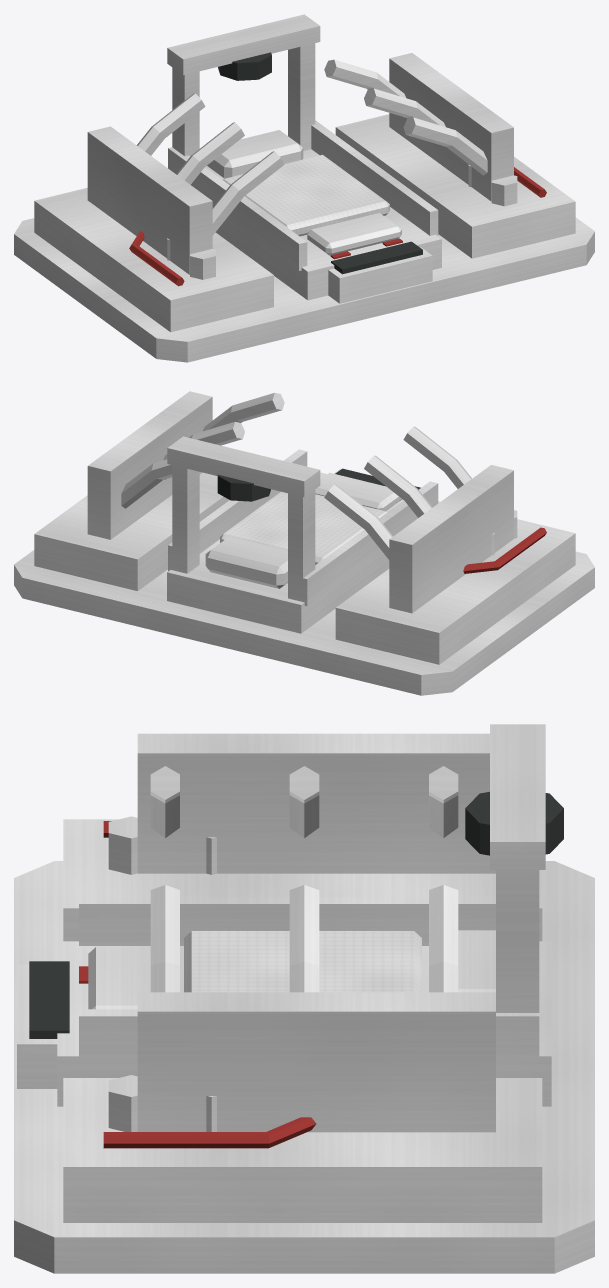
File: subcore_ripscanner.obj
3 renders of one model, top to bottom at view 1: azimuth 30°, elevation 25°; view 2: azimuth 150°, elevation 25°; view 3: azimuth 270°, elevation 25°, orthographic. The views are drawn at different scales.
Visible parts, largest first — view 1: subcore_ripscanner; view 2: subcore_ripscanner; view 3: subcore_ripscanner.
Boxes of the visible parts, box(x1,y1,x2,y2) form: subcore_ripscanner: box(14, 14, 594, 362); subcore_ripscanner: box(14, 391, 594, 695); subcore_ripscanner: box(14, 724, 594, 1273).
Bounding box in the file's own units: 2.88 × 1.08 × 1.88.
